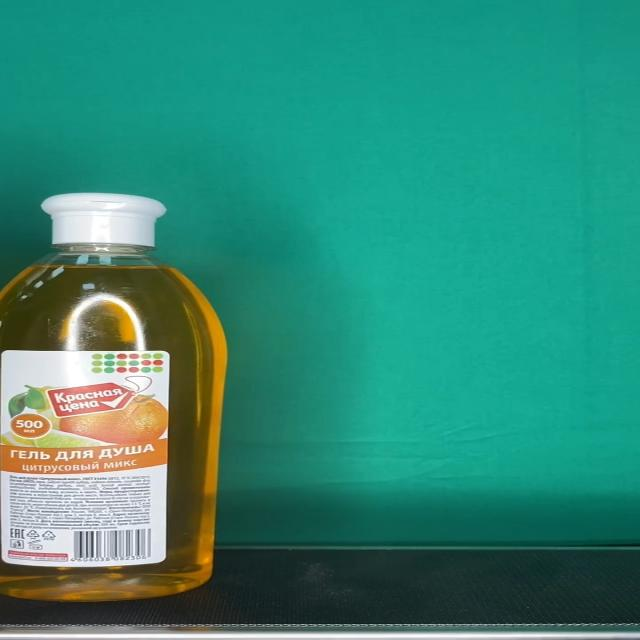Bottle: (0, 194, 230, 602)
Cap: (42, 194, 166, 246)
